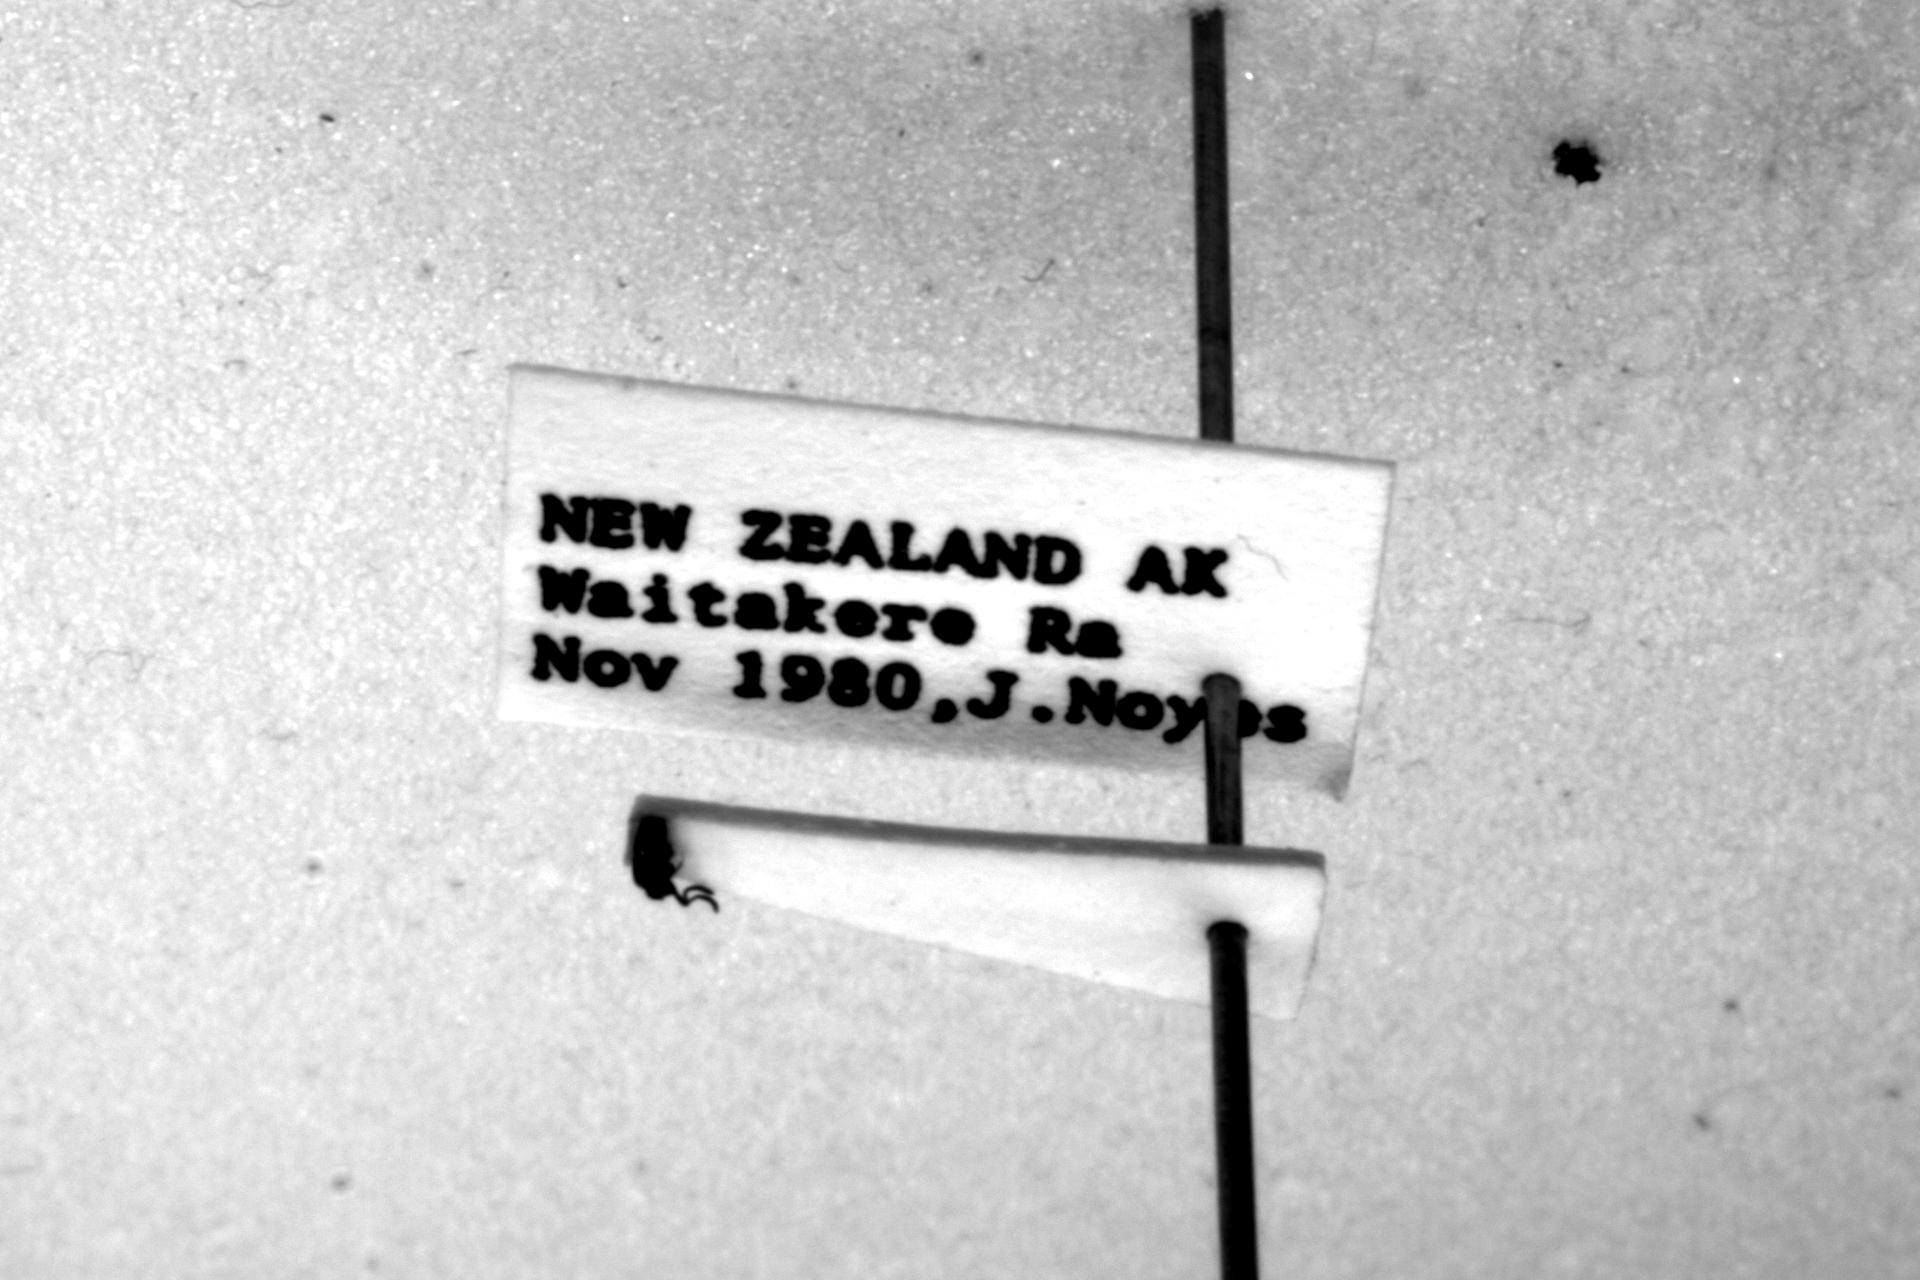typed_label: (499, 368, 1391, 795)
